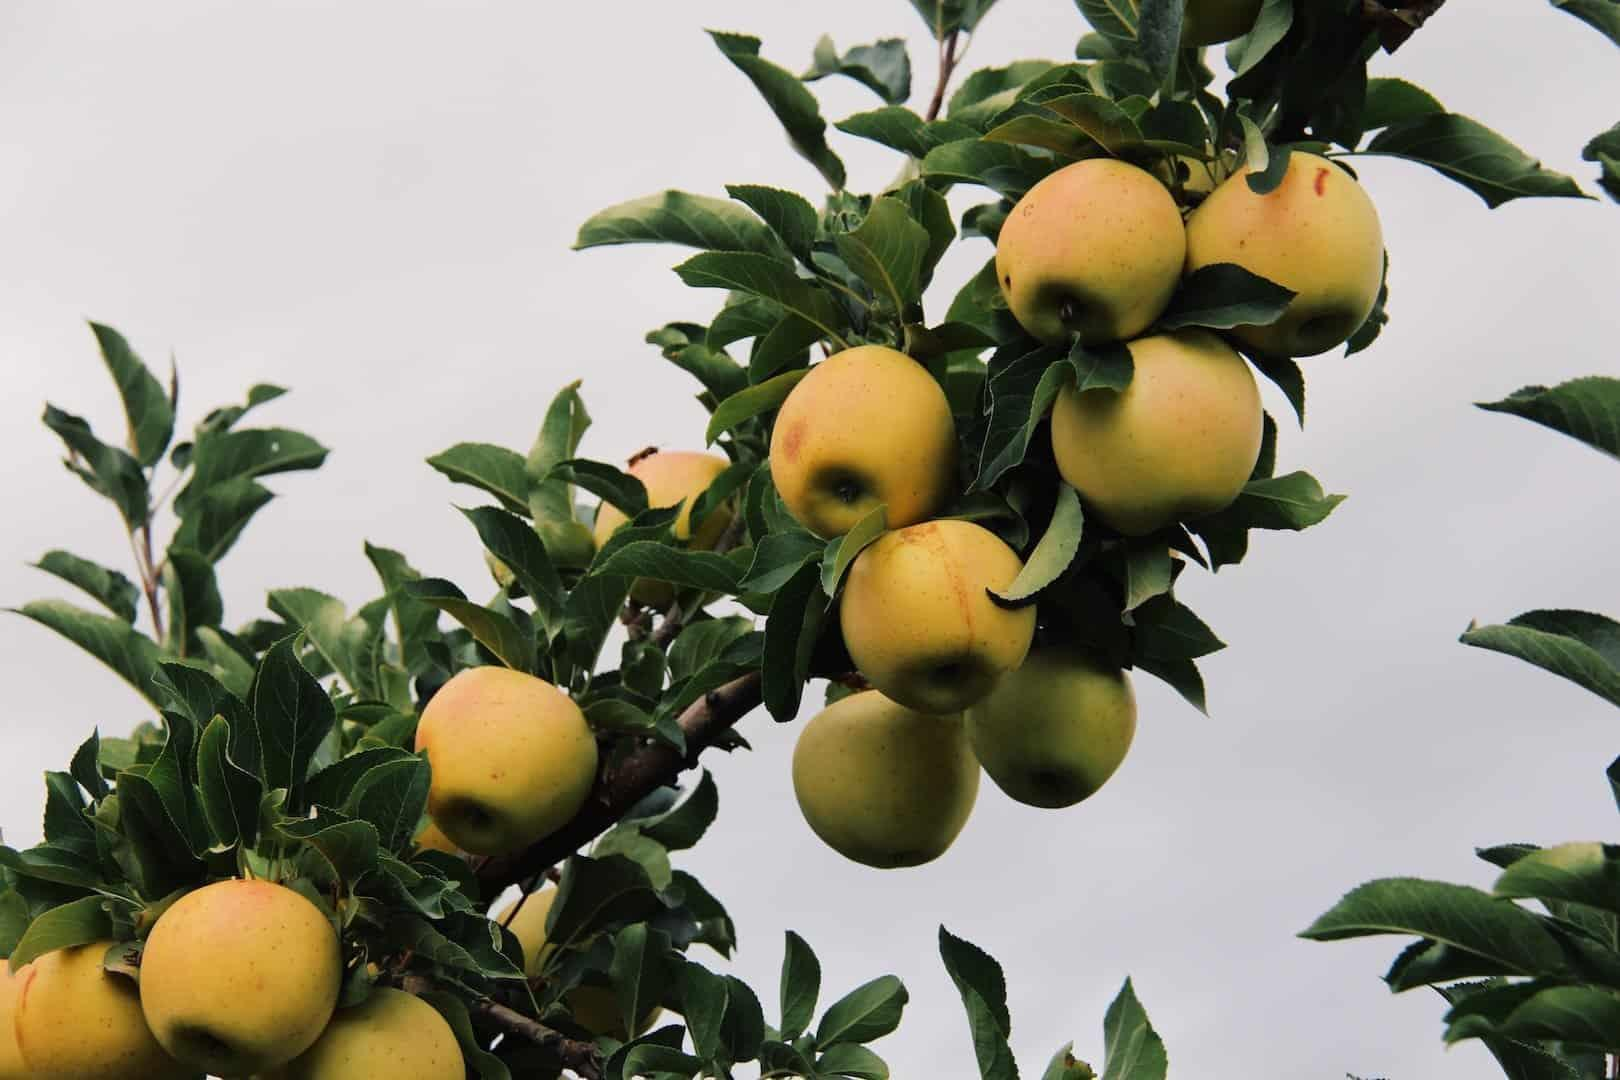apple: (1090, 137, 1352, 358), (1043, 330, 1260, 539), (135, 876, 342, 1072), (761, 345, 957, 544), (837, 513, 1032, 710), (412, 663, 592, 875), (994, 157, 1181, 351), (788, 686, 979, 869), (964, 642, 1129, 805), (17, 947, 165, 1076), (309, 981, 469, 1073)
